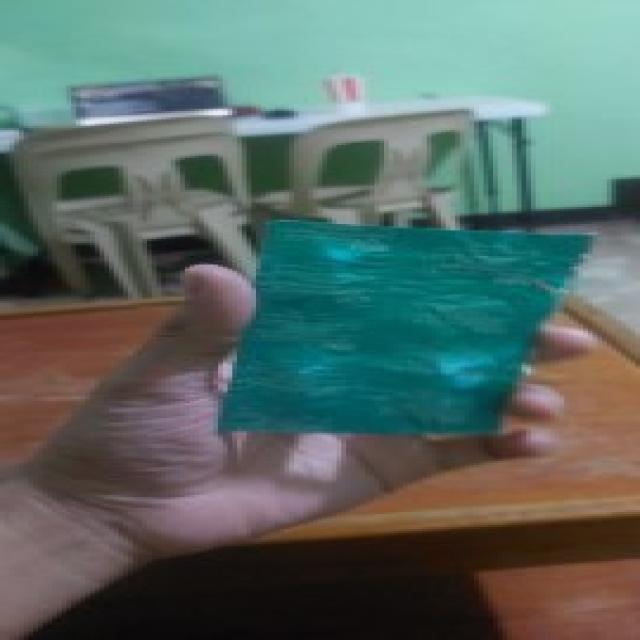Cacat: (222, 220, 602, 434)
